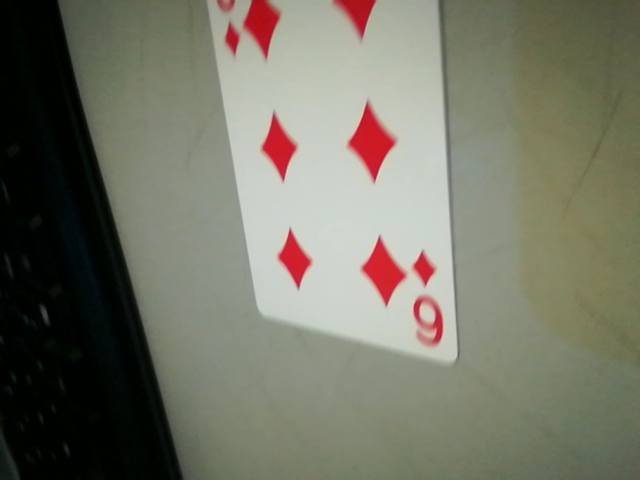fk 6: (401, 243, 455, 358)
